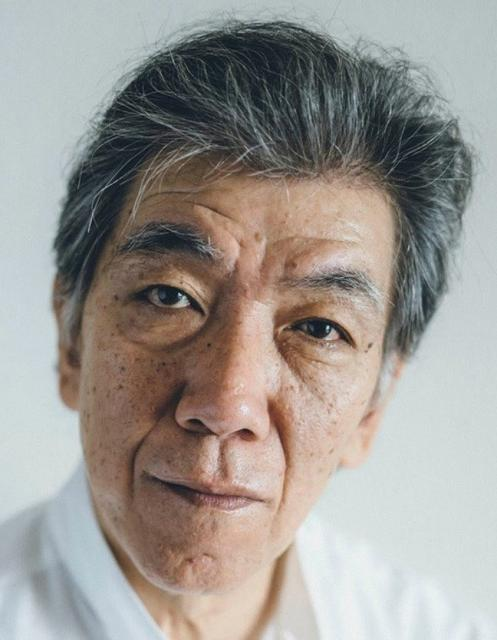forehead: (292, 225, 346, 251), (188, 198, 240, 220), (139, 181, 187, 203)
gummy_smile: (135, 397, 169, 465), (270, 412, 300, 488)
